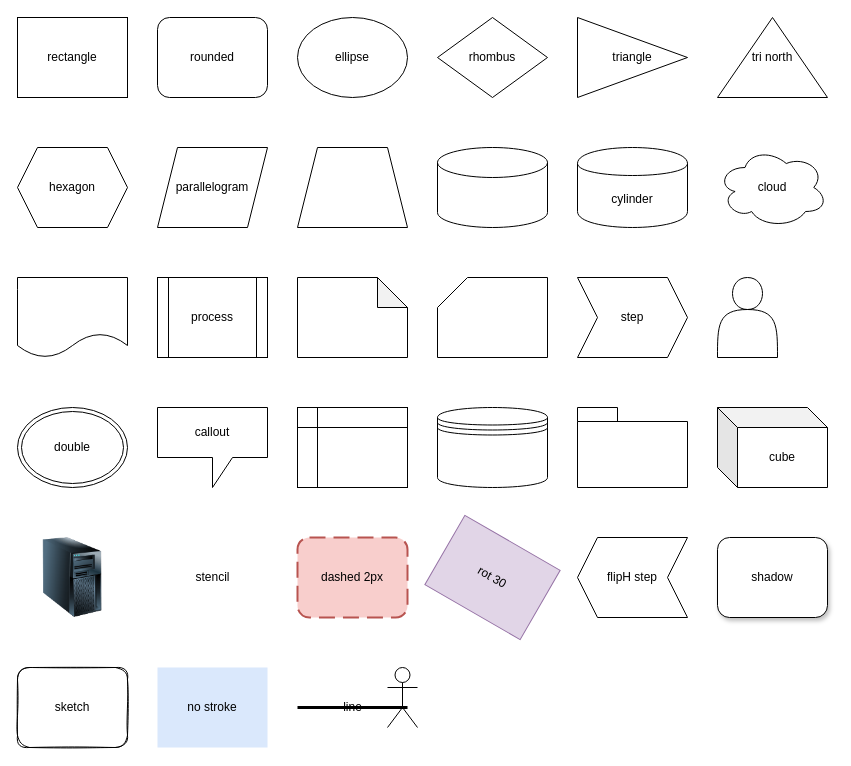
This 851x766 diagram has some shape labels left out. Each missing label, with the centre of its shape:
actor: the point at 747,317
card: the point at 492,317
cylinder3: the point at 492,187
datastore: the point at 492,447
document: the point at 72,317
folder: the point at 632,447
image: the point at 72,577
note: the point at 352,317
storage: the point at 352,447
trapezoid: the point at 352,187
User: the point at 402,697
